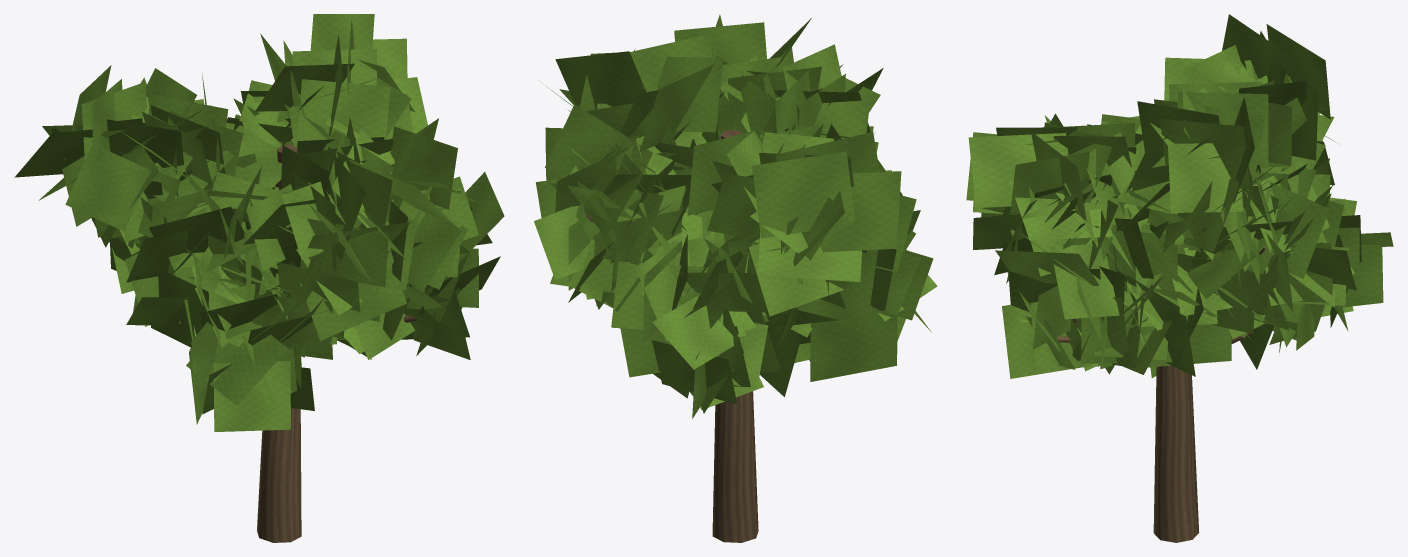
3 renders of one model, left to right at view 1: azimuth 30°, elevation 25°; view 2: azimuth 150°, elevation 25°; view 3: azimuth 270°, elevation 25°, orthographic. The views are drawn at different scales.
Parts seen in each view (by area): view 1: oak-leaf, oak-bark; view 2: oak-leaf, oak-bark; view 3: oak-leaf, oak-bark.
Boxes of the visible parts, bbox=[...] form: oak-leaf: bbox=[14, 14, 504, 431]; oak-bark: bbox=[257, 145, 416, 542]; oak-leaf: bbox=[534, 14, 937, 418]; oak-bark: bbox=[586, 130, 758, 542]; oak-leaf: bbox=[966, 14, 1393, 378]; oak-bark: bbox=[1057, 247, 1265, 542].
Size of the model in its own units: 7.81 by 9.57 by 7.88.
Materials: 2 (2 with a texture image).
